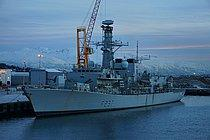MIL_Ship: (21, 53, 187, 117)
